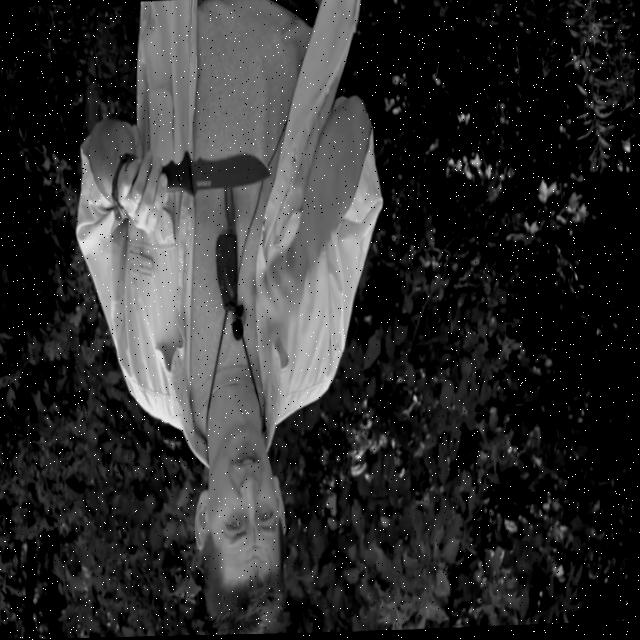knife: (160, 145, 273, 199)
